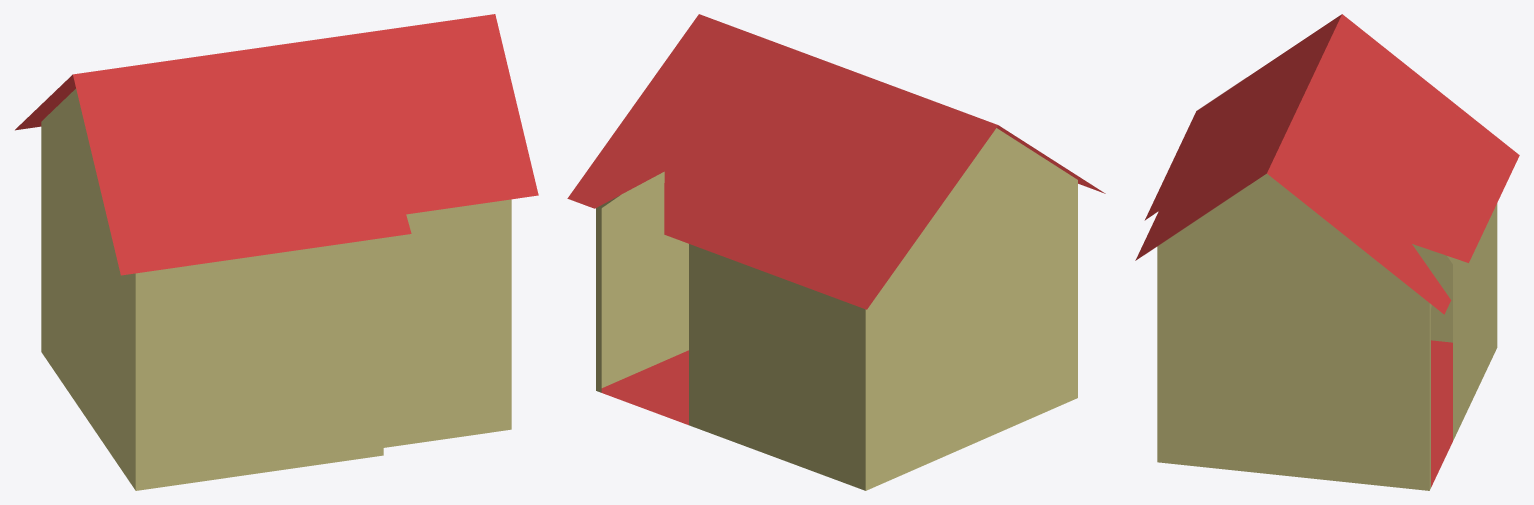
The picture shows the model from 3 angles, left to right: view 1: azimuth 30°, elevation 25°; view 2: azimuth 150°, elevation 25°; view 3: azimuth 270°, elevation 25°; orthographic projection. The views are drawn at different scales.
Bounding box in the file's own units: 17.97 × 15.09 × 13.36.
